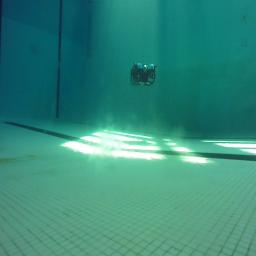front: (130, 62, 158, 85)
